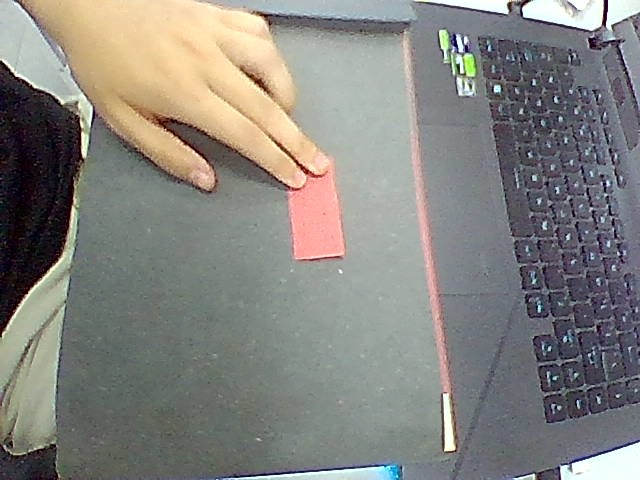card: (289, 161, 344, 260)
